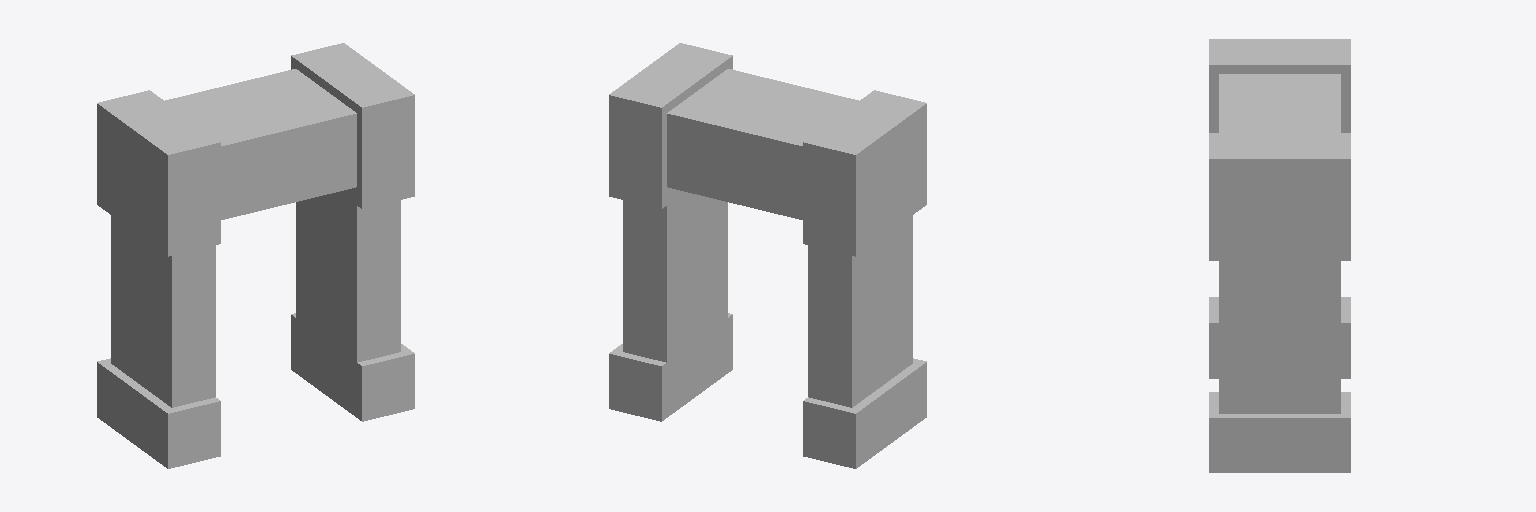
Rendered from lithographer.obj.
3 views of the same model, side by side, from view 1: azimuth 30°, elevation 25°; view 2: azimuth 150°, elevation 25°; view 3: azimuth 270°, elevation 25° (orthographic).
Visible parts, largest first — view 1: cube.006, cube.002, cube.001, cube.004, cube.003, cube, cube.005; view 2: cube.006, cube.002, cube.001, cube.004, cube.003, cube, cube.005; view 3: cube.004, cube.003, cube.005, cube.006, cube.002, cube.
Part boxes in pixels (bbox=[...]): cube.006: bbox=[165, 69, 356, 219]; cube.002: bbox=[97, 90, 220, 256]; cube.001: bbox=[111, 215, 215, 407]; cube.004: bbox=[296, 192, 400, 362]; cube.003: bbox=[291, 43, 414, 208]; cube: bbox=[97, 358, 220, 468]; cube.005: bbox=[291, 313, 414, 421]; cube.006: bbox=[667, 69, 858, 219]; cube.002: bbox=[803, 90, 926, 256]; cube.001: bbox=[808, 215, 912, 407]; cube.004: bbox=[623, 192, 727, 362]; cube.003: bbox=[609, 43, 732, 208]; cube: bbox=[803, 358, 926, 468]; cube.005: bbox=[609, 313, 732, 421]; cube.004: bbox=[1219, 261, 1340, 413]; cube.003: bbox=[1209, 133, 1350, 260]; cube.005: bbox=[1209, 392, 1350, 472]; cube.006: bbox=[1219, 74, 1340, 132]; cube.002: bbox=[1209, 39, 1350, 132]; cube: bbox=[1209, 297, 1350, 378].
Bounding box in the file's own units: 1.75 × 2.12 × 0.875.